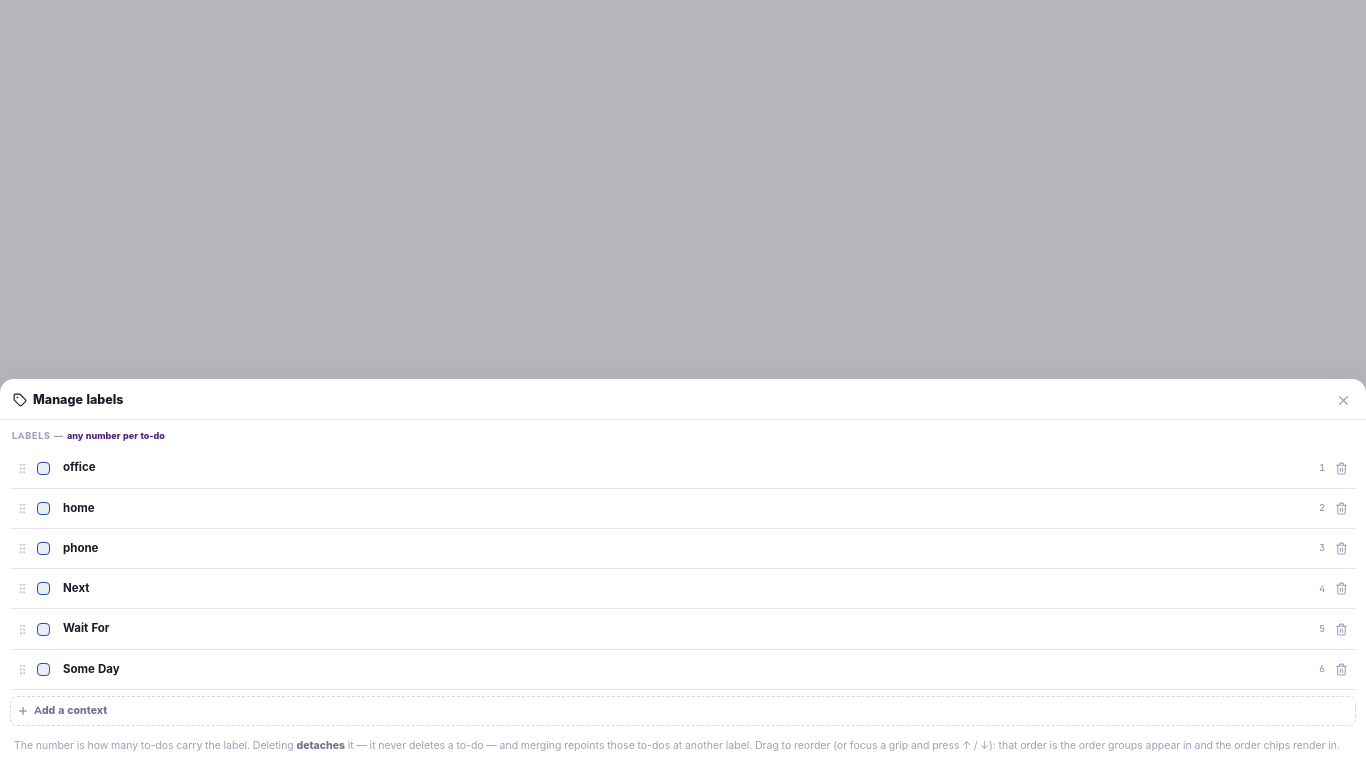
create › refuses a DUPLICATE name before the round trip
This screenshot has width=1366, height=768.
Step 1. Click the button "Add a context" → point(51, 710), box [10,696,1356,726]
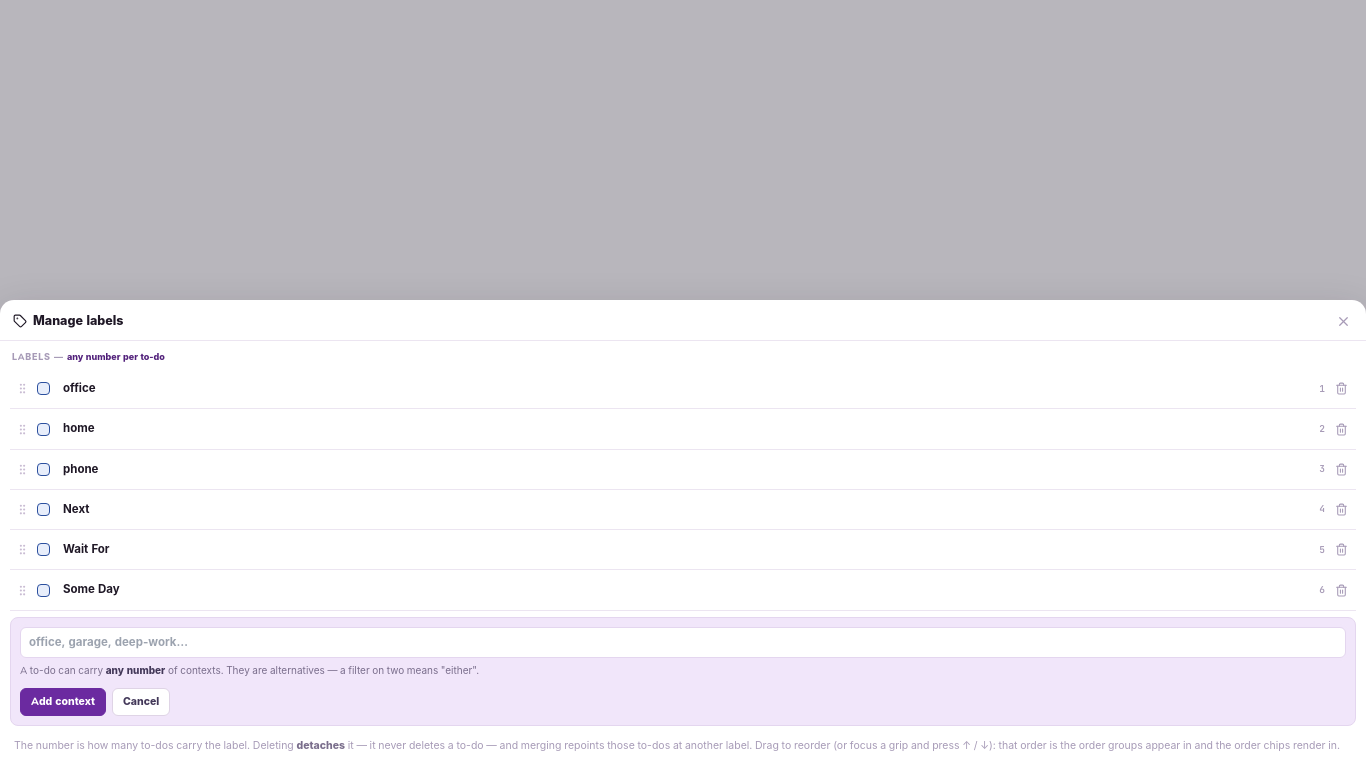
Step 2. Type "office" into the field named "New context name" → point(683, 642), box [20,627,1346,658]
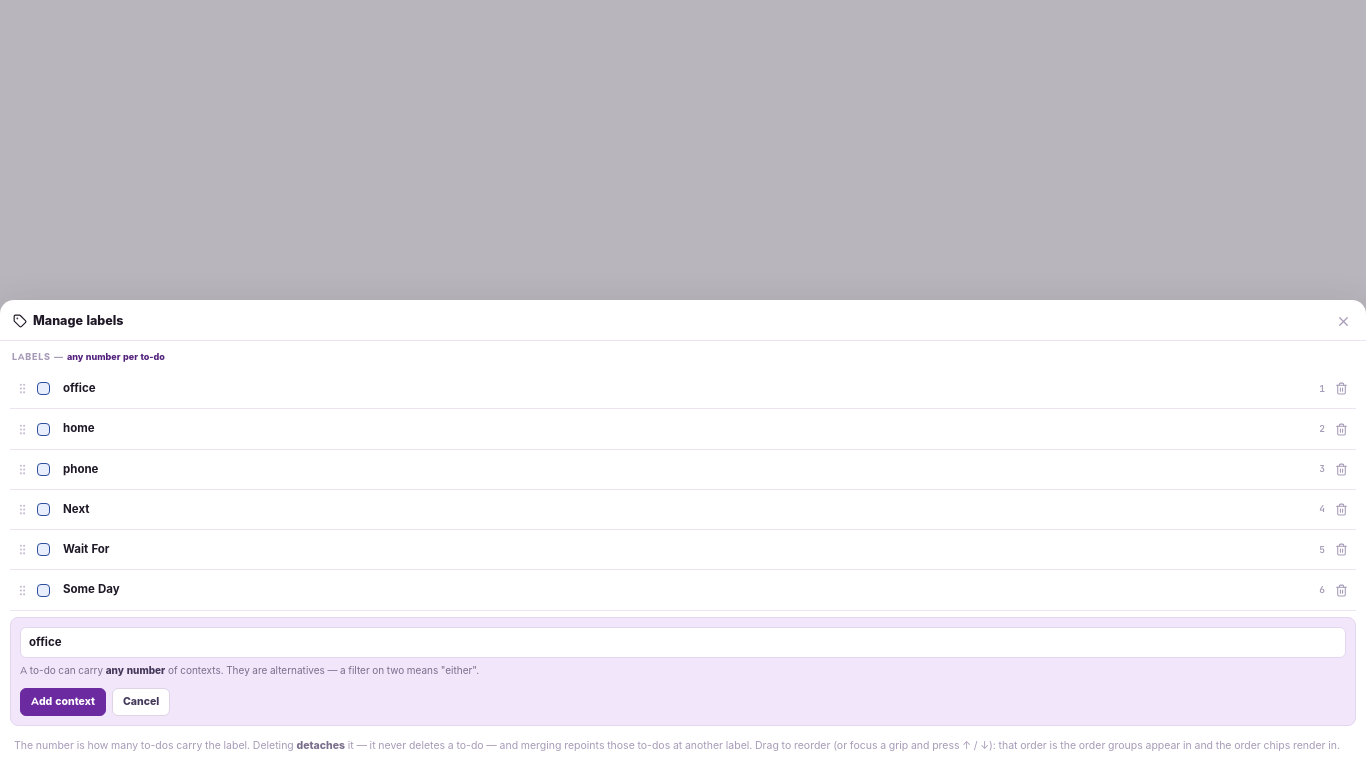
Step 3. Click the button "Add context" → point(63, 702), box [20,688,106,716]
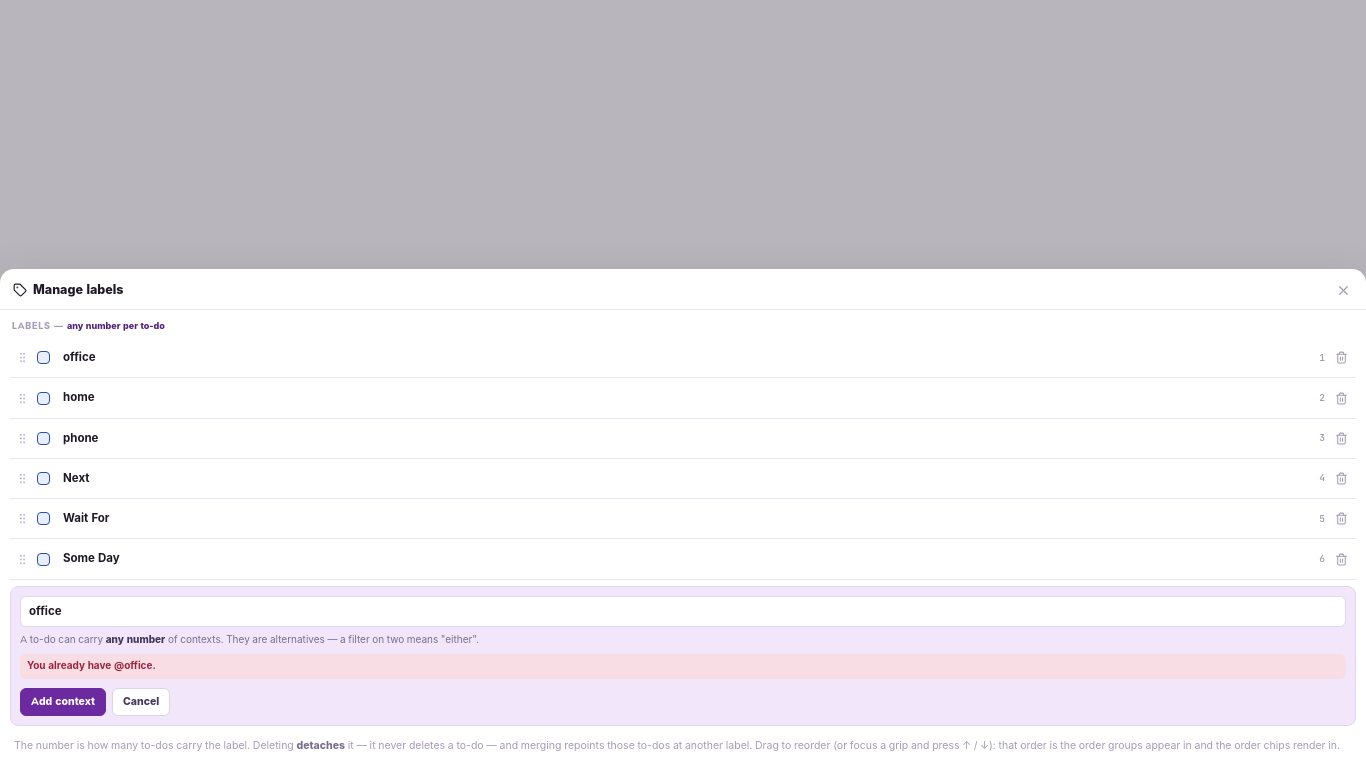
expect the text "You already have @office." is shown: met, box [20,654,1346,679]
